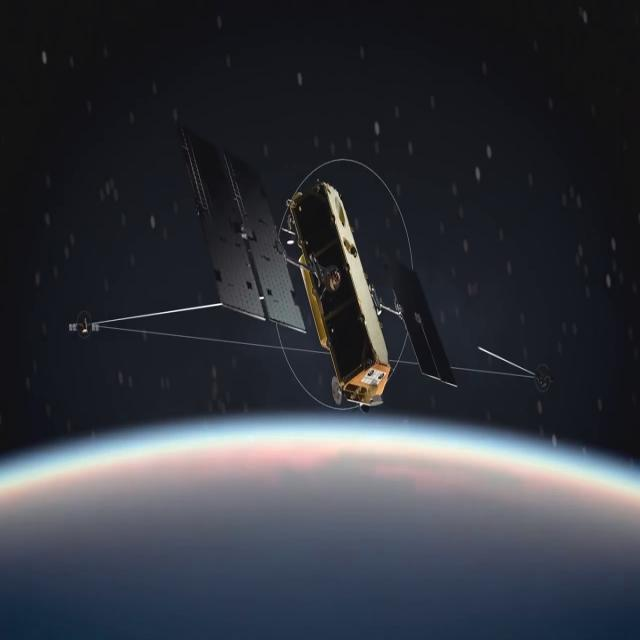satellite: (54, 127, 558, 450)
